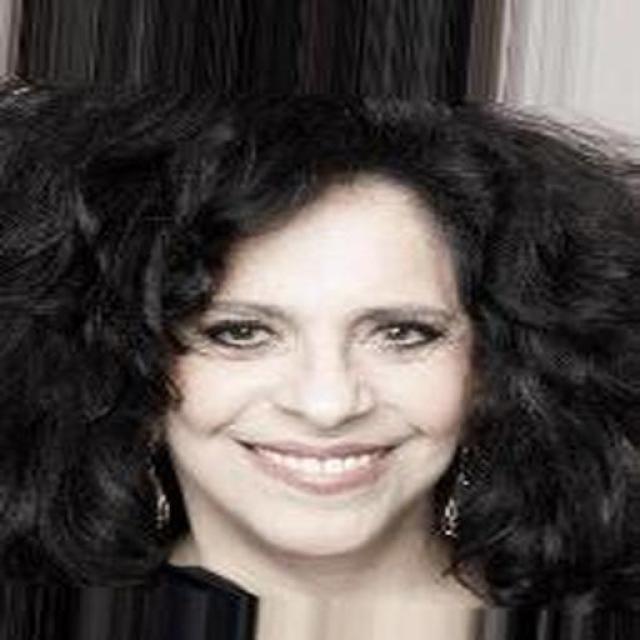bareface: (103, 120, 484, 566)
